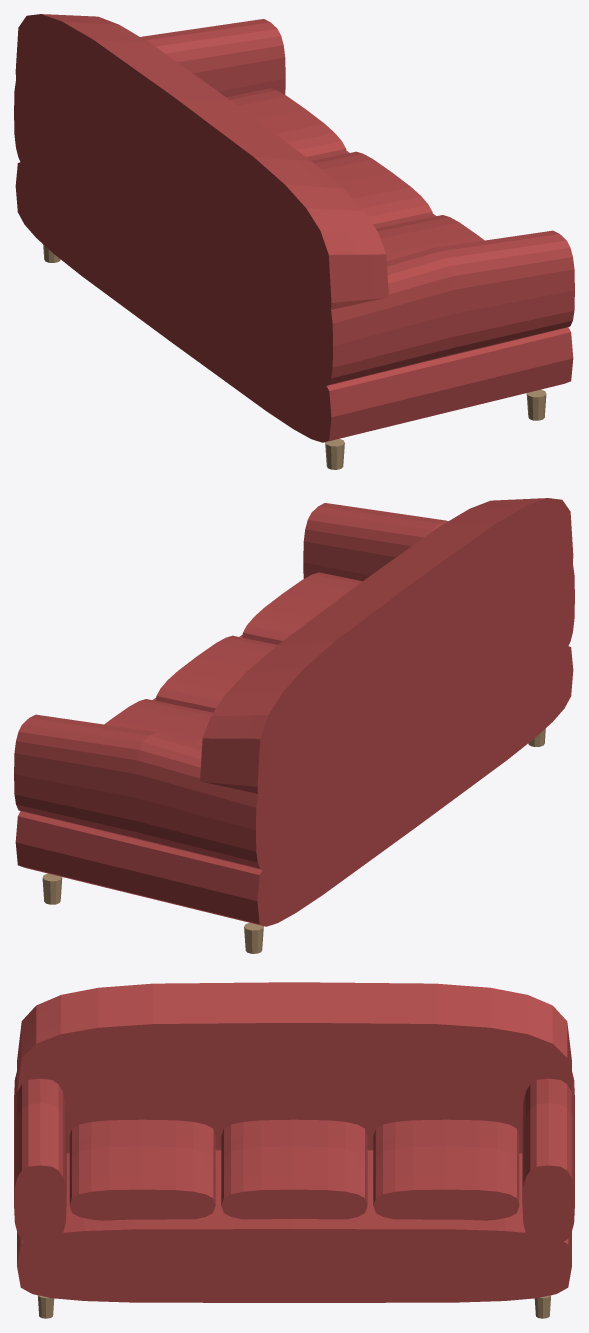
The model's file is SM_Prop_Sofa.fbx.
The picture shows the model from 3 angles, top to bottom: view 1: azimuth 30°, elevation 25°; view 2: azimuth 150°, elevation 25°; view 3: azimuth 270°, elevation 25°; orthographic projection. The views are drawn at different scales.
Visible parts, largest first — view 1: SM_Prop_Sofa; view 2: SM_Prop_Sofa; view 3: SM_Prop_Sofa.
Boxes of the visible parts, x1,y1,x2,y2 form: SM_Prop_Sofa: (14, 14, 574, 469); SM_Prop_Sofa: (14, 498, 574, 953); SM_Prop_Sofa: (14, 982, 574, 1318).
Bounding box in the file's own units: 1.92 × 0.84 × 0.9.
